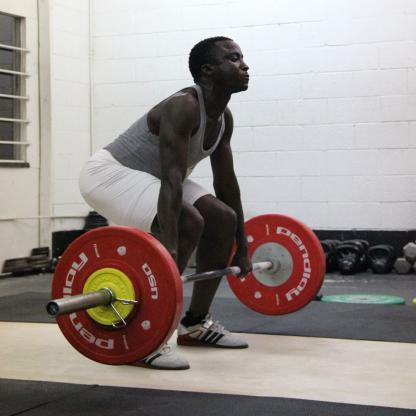Barbell: (44, 295, 65, 323)
